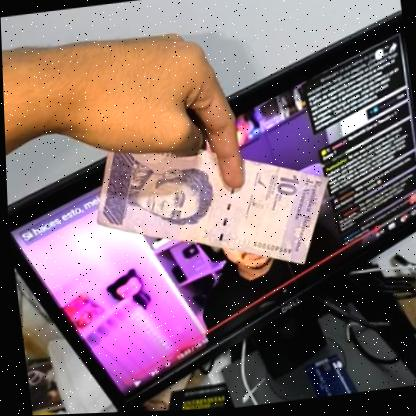ten-front-vef: (85, 129, 334, 292)
